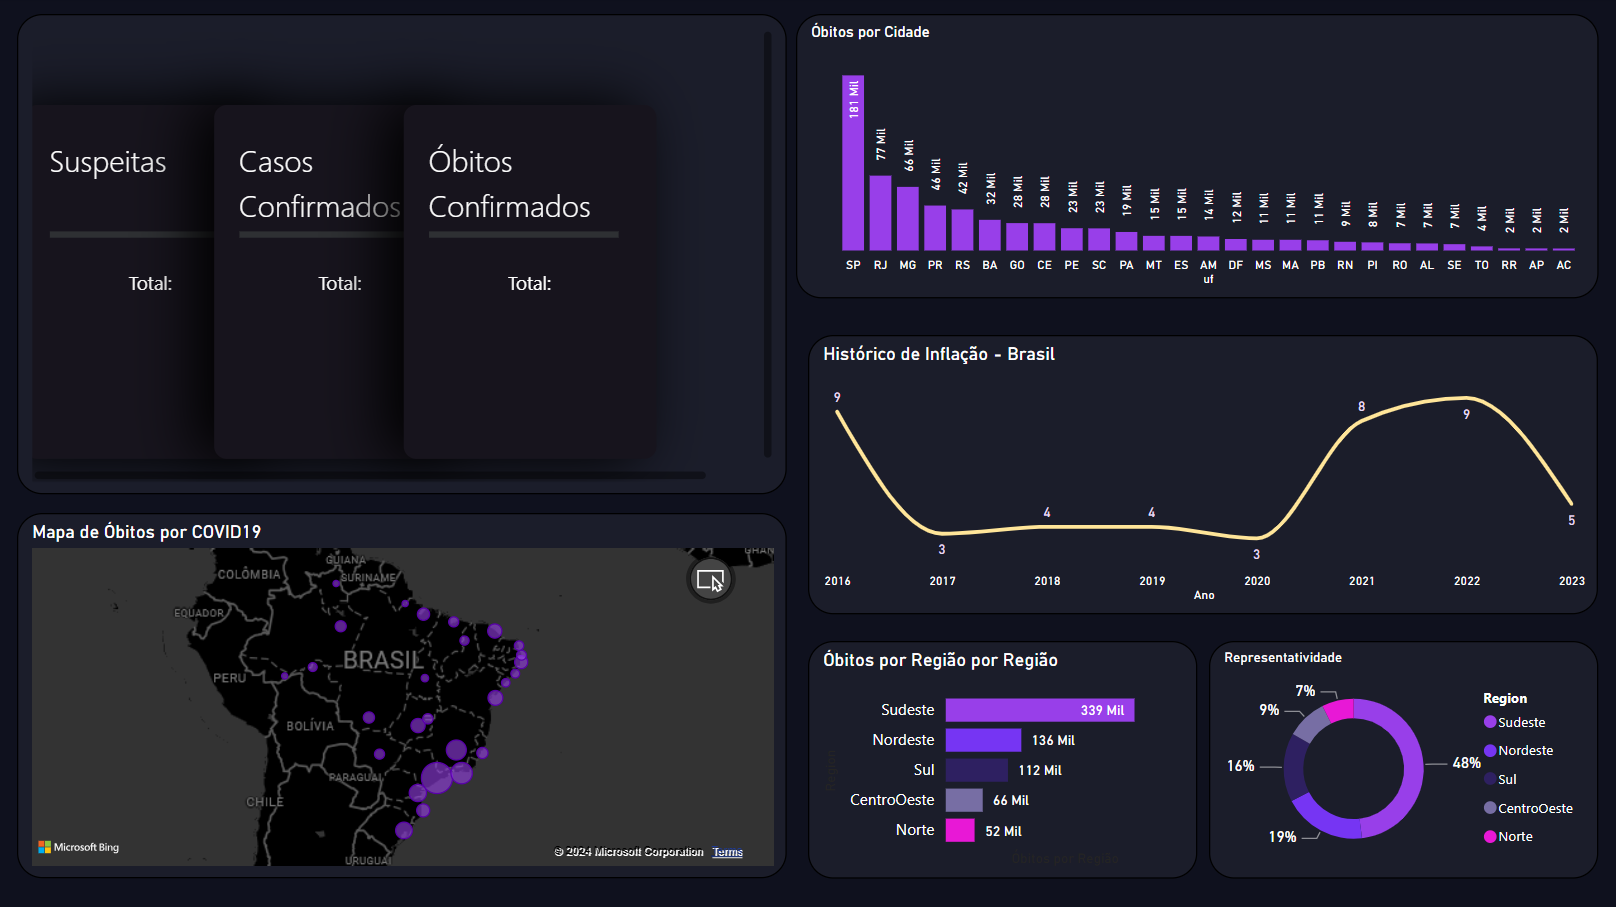

Layout of this report page (visuals, bound fields, positions):
{"tool":"powerbi","page":{"name":"Brazil","canvas":[1280,720],"ordinal":1},"visuals":[{"type":"map","title":"Mapa de Óbitos por COVID19","fields":{"Category":["df_brazil.state"],"Size":["Sum(df_brazil.deaths)"]},"box":[14.7,407.1,608.9,288.9],"z":0},{"type":"columnChart","title":"Óbitos por Cidade","fields":{"Category":["df_brazil.uf"],"Y":["Sum(df_brazil.deaths)"]},"box":[631.4,12.9,634.8,225.1],"z":1000},{"type":"htmlContent443BE3AD55E043BF878BED274D3A6855","fields":{"content":["df_brazil.HTML"]},"box":[14.7,12.9,608.9,379.5],"z":2000},{"type":"clusteredBarChart","title":"Óbitos por Região por Região","fields":{"Category":["df_brazil.Region"],"Y":["Sum(df_brazil.deaths)"]},"box":[640.9,508.9,307.9,188],"z":3000},{"type":"donutChart","title":"Representatividade","fields":{"Category":["df_brazil.Region"],"Y":["Sum(df_brazil.deaths)"]},"box":[958.3,508.9,307.9,188],"z":4000},{"type":"lineChart","title":"Histórico de Inflação - Brasil","fields":{"Y":["Sum(Inflation.Inflation rate (Annual percent change))"],"Category":["dCalendario.Ano"]},"box":[640.9,266.6,625.1,220.7],"z":4002}]}

Visuals, with their boxes in screenshot pixels (x1, y1, x2, y2), scaled from the page's 1280x720 canvas onto the 1616x907 screenshot:
"Mapa de Óbitos por COVID19" map: <bbox>19, 513, 787, 877</bbox>
"Óbitos por Cidade" columnChart: <bbox>797, 16, 1599, 300</bbox>
htmlContent443BE3AD55E043BF878BED274D3A6855 - df_brazil.HTML: <bbox>19, 16, 787, 494</bbox>
"Óbitos por Região por Região" clusteredBarChart: <bbox>809, 641, 1198, 878</bbox>
"Representatividade" donutChart: <bbox>1210, 641, 1599, 878</bbox>
"Histórico de Inflação - Brasil" lineChart: <bbox>809, 336, 1598, 614</bbox>
